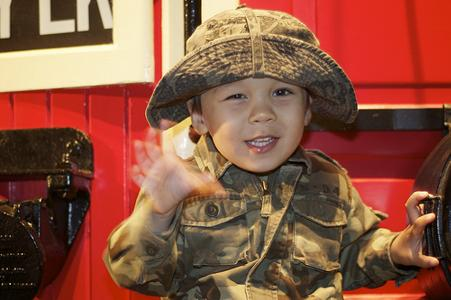person: (105, 8, 440, 300)
